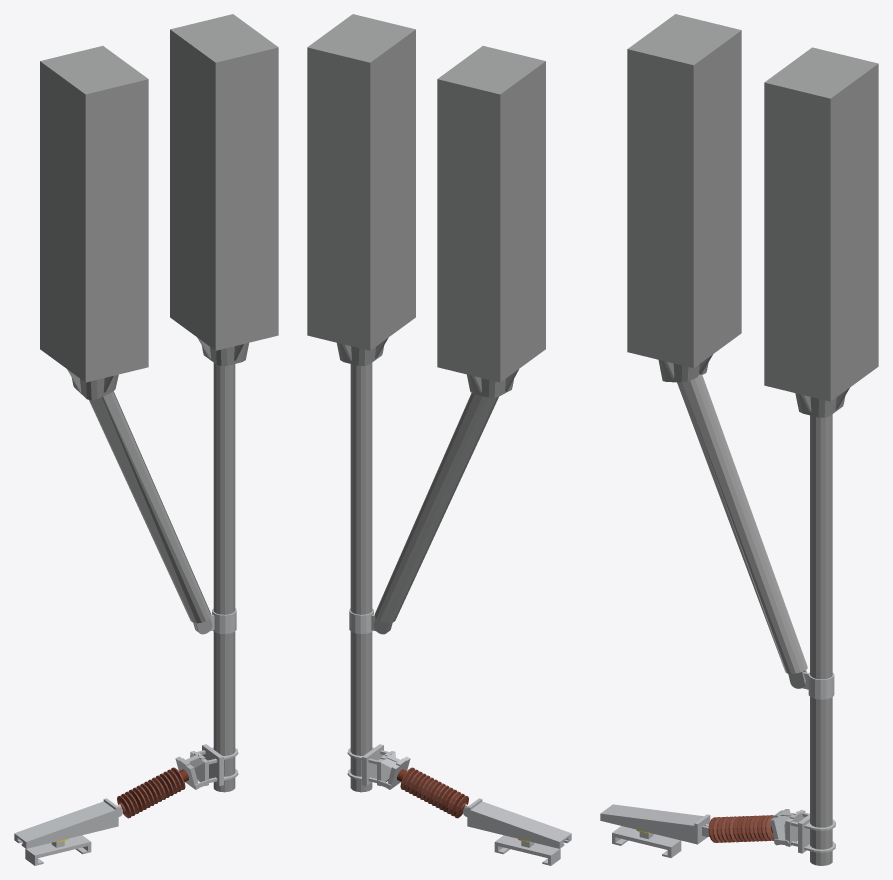
Rendered from catenary_high-speed_rigid.obj.
3 renders of one model, left to right at view 1: azimuth 30°, elevation 25°; view 2: azimuth 150°, elevation 25°; view 3: azimuth 330°, elevation 25°, orthographic. The views are drawn at different scales.
Parts seen in each view (by area): view 1: 1.001; view 2: 1.001; view 3: 1.001.
Boxes of the visible parts, x1,y1,x2,y2 form: 1.001: (14,14,278,865); 1.001: (307,14,571,865); 1.001: (600,14,878,865).
Size of the model in its own units: 0.8884 by 2.8 by 0.2979.
1 material, 1 textured.
